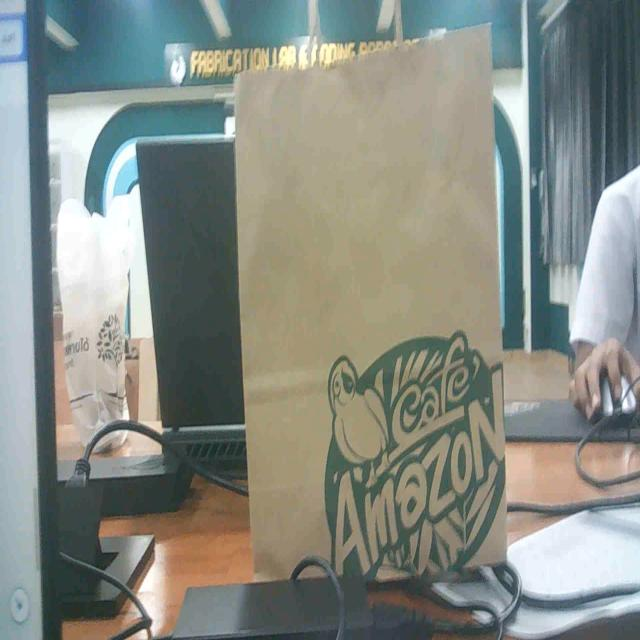bag: (225, 60, 527, 582)
